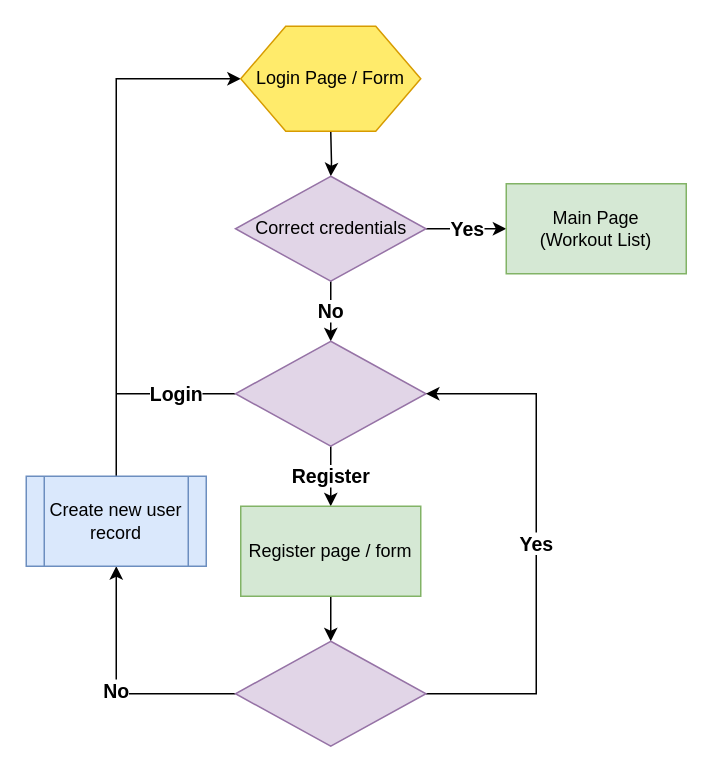
This 713x773 diagram has some shape labels left out. The centre of each missing label's shape, as x and y in pixels:
Does username already exist?: (x=330, y=693)
Login or Register: (x=330, y=393)
